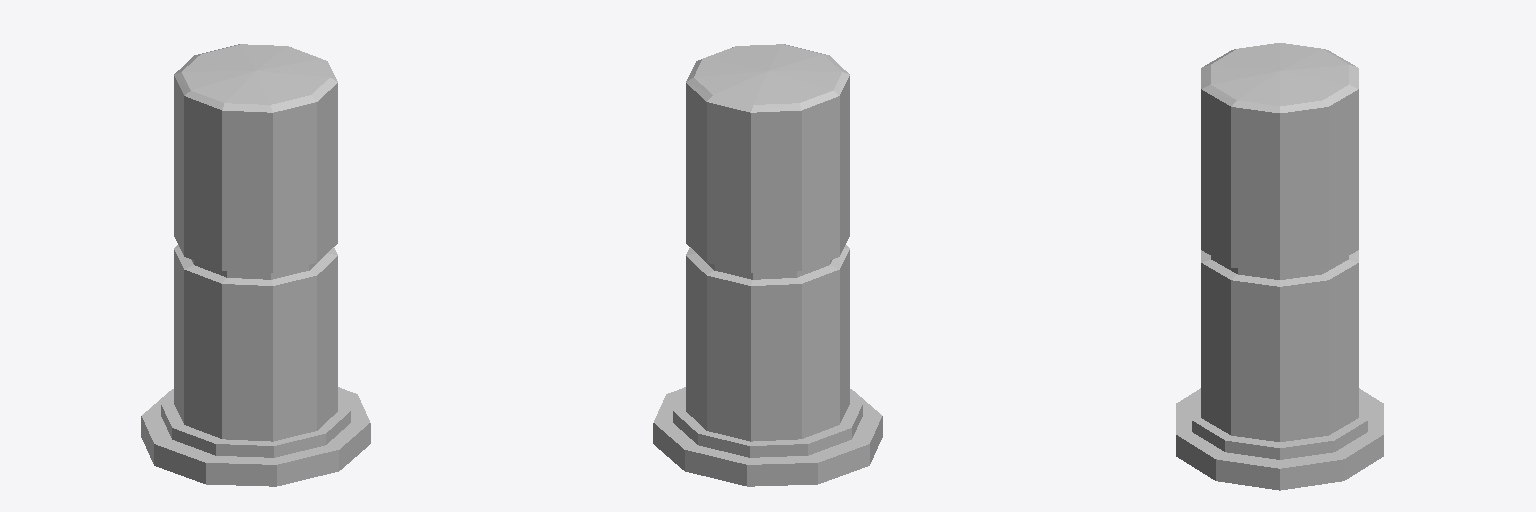
The model's file is column-3.obj.
The picture shows the model from 3 angles: view 1: azimuth 30°, elevation 25°; view 2: azimuth 150°, elevation 25°; view 3: azimuth 270°, elevation 25°; orthographic projection.
Parts seen in each view (by area): view 1: Deco_01.005; view 2: Deco_01.005; view 3: Deco_01.005.
Part boxes in pixels (left/top/right/bottom): Deco_01.005: left=141, top=44, right=370, bottom=486; Deco_01.005: left=653, top=44, right=882, bottom=486; Deco_01.005: left=1176, top=43, right=1383, bottom=490.
Size of the model in its own units: 0.8187 by 1.42 by 0.7246.